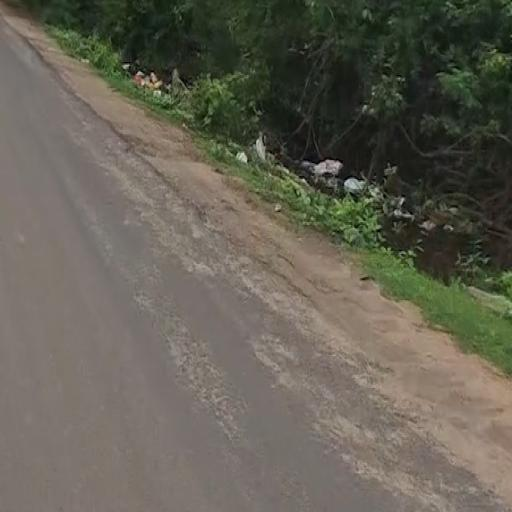edge_damage: (11, 38, 509, 508)
